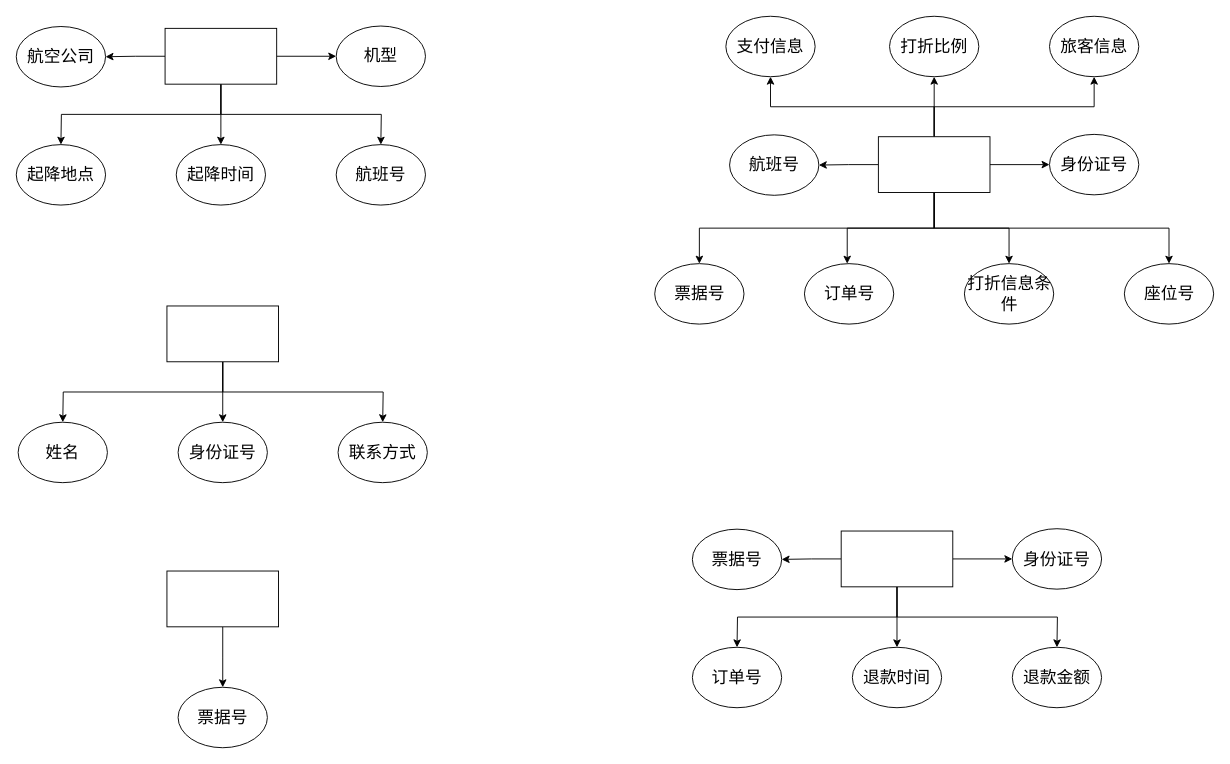
Some shapes in this 1230 by 764 pixel diagram are drawn without their labels. The centre of each missing label's shape, as x and y in pixels:
"旅客" belongs at point (222, 333).
"票据" belongs at point (222, 598).
"航班" belongs at point (220, 55).
"订票" belongs at point (933, 164).
"退票" belongs at point (896, 558).
